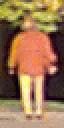person: (10, 13, 54, 115)
